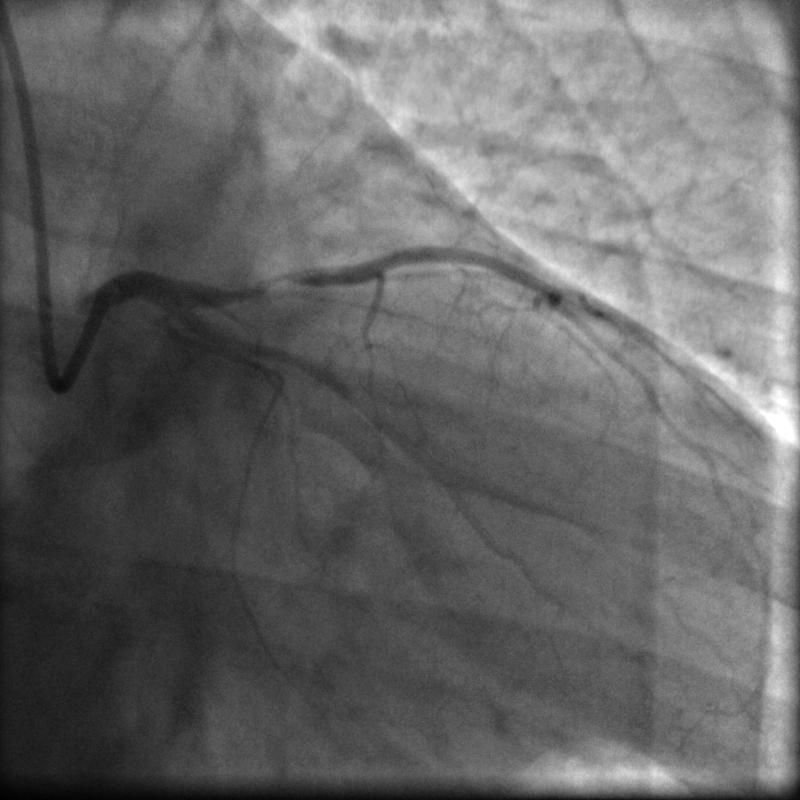Stenosis: (232, 266, 321, 294)
